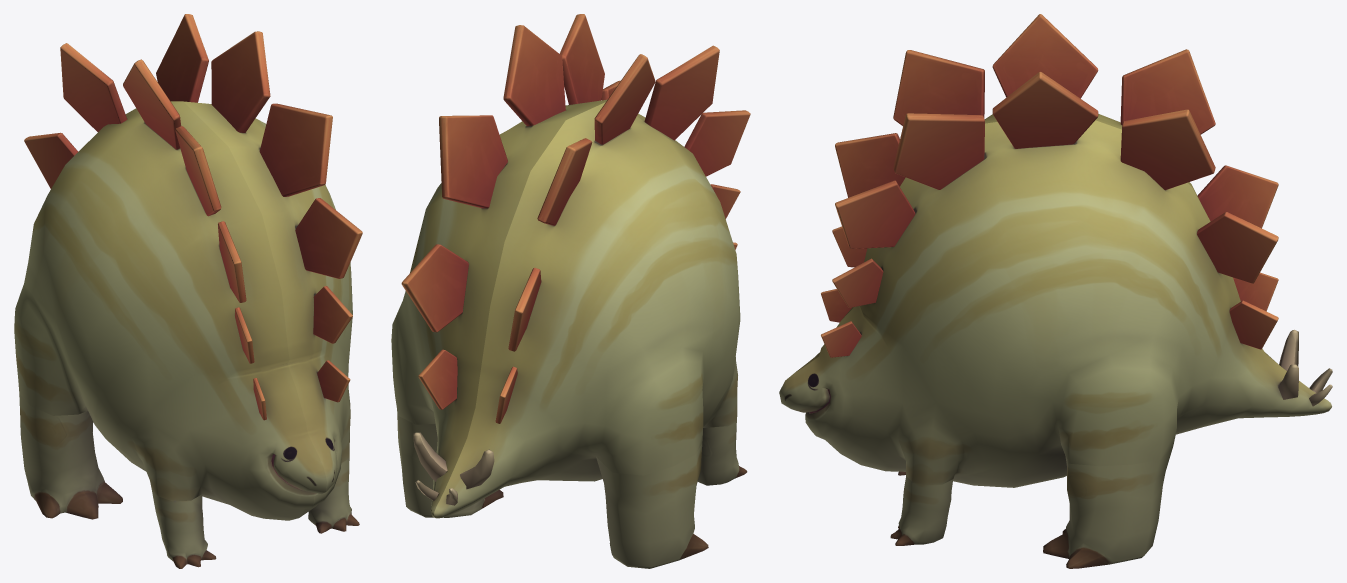
The model's file is stegosaurus.obj.
The picture shows the model from 3 angles, left to right: view 1: azimuth 30°, elevation 25°; view 2: azimuth 150°, elevation 25°; view 3: azimuth 270°, elevation 25°; orthographic projection. The views are drawn at different scales.
Parts seen in each view (by area): view 1: stegadon_geo; view 2: stegadon_geo; view 3: stegadon_geo.
Part boxes in pixels (bbox=[...]): stegadon_geo: bbox=[14, 14, 362, 568]; stegadon_geo: bbox=[391, 14, 750, 568]; stegadon_geo: bbox=[779, 14, 1332, 568].
Bounding box in the file's own units: 140 × 213 × 232.
1 material, 1 textured.
